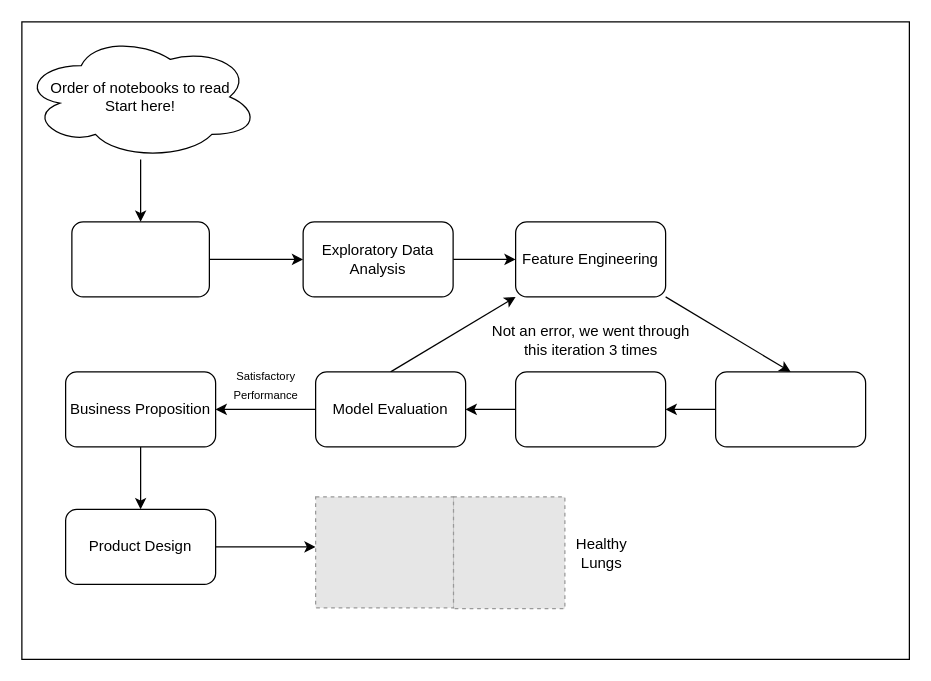
Some shapes in this 931 by 681 pixel diagram are drawn without their labels. Grey dashed boxes stand in for pictures. The shapes that lost their labels are listed below. From the top down, each one's box as (x1, y1, x2, y2) in pixels, then its label:
(71, 221, 209, 297): Data Imputation
(514, 371, 666, 447): Model Training
(714, 371, 866, 447): Data Preparation
